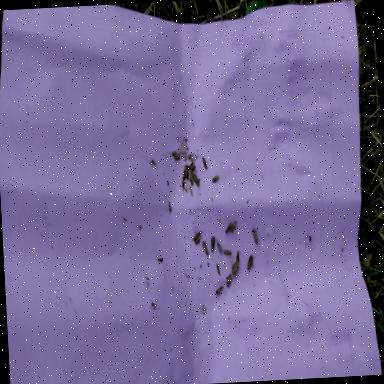pbw: (245, 252, 256, 270), (199, 237, 208, 255), (230, 260, 239, 276), (192, 172, 200, 190), (190, 230, 202, 242), (214, 284, 226, 295), (229, 220, 237, 234), (225, 272, 233, 286), (224, 220, 232, 234), (209, 234, 215, 252), (252, 226, 258, 244), (188, 168, 194, 185), (171, 150, 180, 160), (201, 156, 207, 170), (210, 174, 220, 182), (183, 164, 196, 170), (182, 163, 186, 179), (194, 235, 200, 244), (185, 166, 189, 179), (235, 249, 239, 262), (223, 248, 231, 254), (150, 157, 156, 164)
